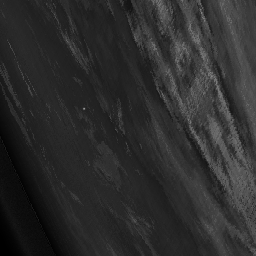Target: (81, 107, 86, 111)
